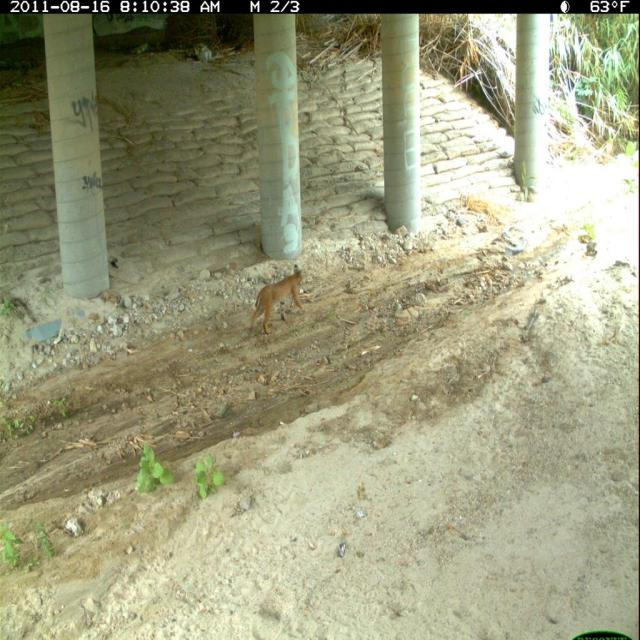bobcat: (247, 259, 308, 340)
